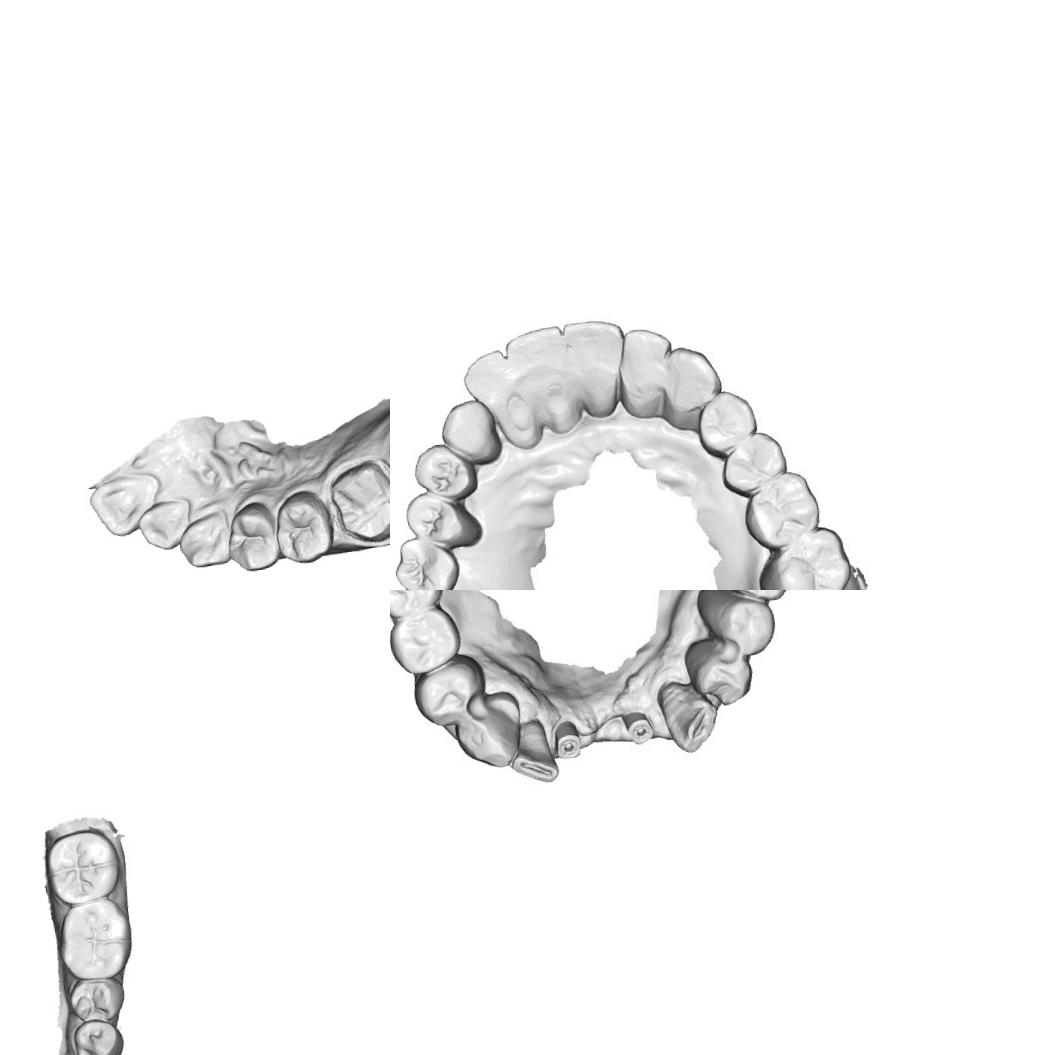canine: (651, 670, 725, 760), (434, 396, 500, 470), (658, 340, 722, 413), (503, 720, 559, 789), (175, 508, 235, 570)
crown: (321, 452, 390, 548)
implant_plus: (554, 713, 588, 762), (622, 705, 659, 748)
incisor: (84, 470, 168, 540), (558, 311, 630, 385), (501, 324, 571, 396), (615, 324, 676, 397), (457, 348, 517, 419), (133, 496, 195, 553)
molar: (738, 466, 829, 552), (52, 895, 138, 984), (754, 522, 857, 590), (40, 825, 124, 908), (390, 605, 462, 675), (390, 532, 463, 590), (390, 590, 444, 618)
premolar: (407, 654, 492, 732), (449, 690, 526, 774), (682, 632, 756, 712), (269, 486, 338, 566), (707, 590, 782, 663), (715, 426, 788, 498), (692, 385, 760, 460), (400, 487, 471, 556), (221, 498, 283, 576), (410, 439, 480, 502), (66, 974, 128, 1026), (70, 1016, 128, 1055)
